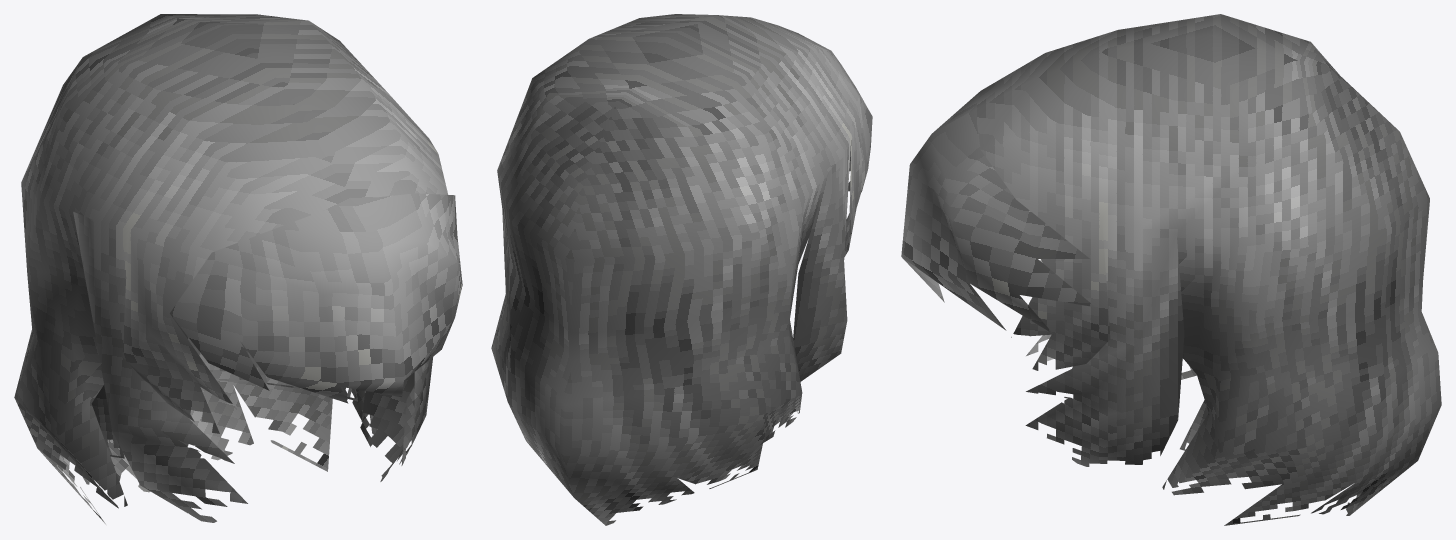
The model's file is m_head015.glb.
The picture shows the model from 3 angles, left to right: view 1: azimuth 30°, elevation 25°; view 2: azimuth 150°, elevation 25°; view 3: azimuth 270°, elevation 25°; orthographic projection. The views are drawn at different scales.
Size of the model in its own units: 18.07 by 26.4 by 26.86.
1 material, 1 textured.
